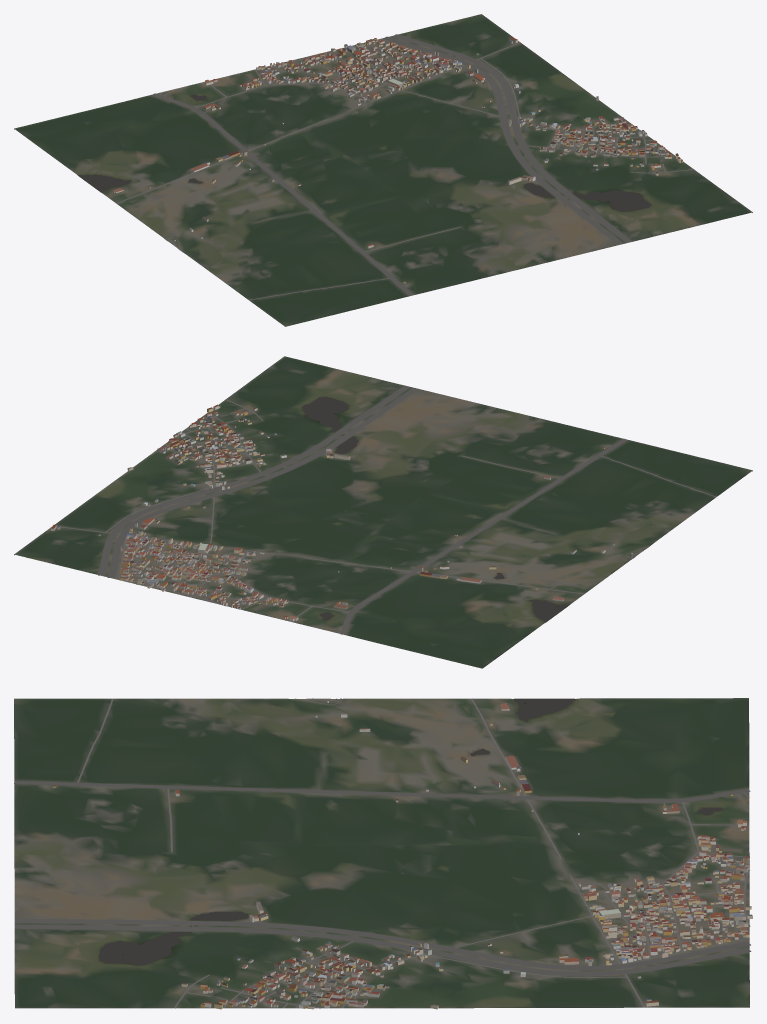
3 renders of one model, top to bottom at view 1: azimuth 30°, elevation 25°; view 2: azimuth 150°, elevation 25°; view 3: azimuth 270°, elevation 25°, orthographic. The views are drawn at different scales.
Visible parts, largest first — view 1: ground, buildings, roads, water; view 2: ground, buildings, roads, water; view 3: ground, buildings, roads, water.
Boxes of the visible parts, x1,y1,x2,y2 form: ground: [14, 14, 752, 326]; buildings: [112, 37, 682, 283]; roads: [116, 34, 693, 300]; water: [78, 94, 651, 251]; ground: [14, 356, 752, 668]; buildings: [51, 404, 632, 628]; roads: [56, 385, 716, 634]; water: [302, 396, 649, 621]; ground: [14, 698, 749, 1008]; buildings: [53, 700, 752, 1009]; roads: [14, 698, 751, 1008]; water: [98, 698, 722, 965].
Size of the model in its own units: 1404 by 16.84 by 1409.
